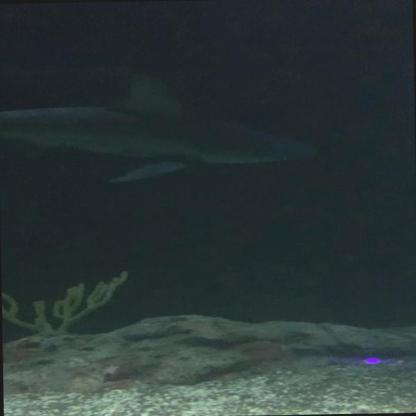shark: (0, 67, 320, 185)
